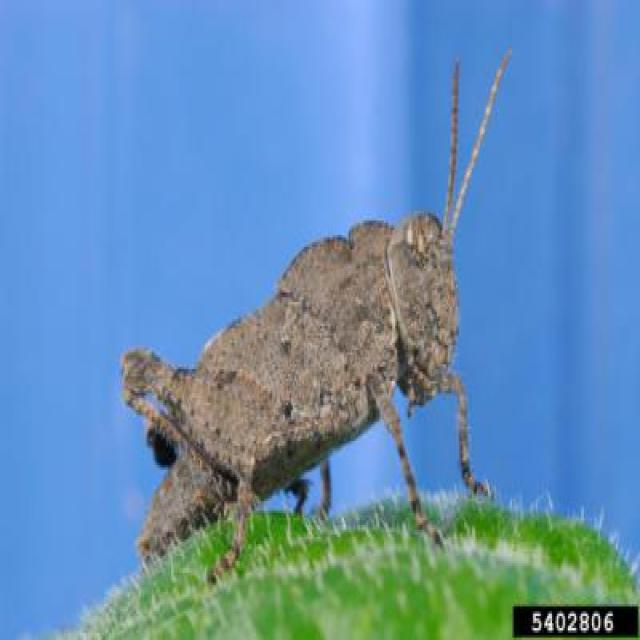antennae: (450, 57, 510, 225), (440, 59, 461, 236)
body: (139, 214, 457, 555)
insect: (118, 49, 515, 588)
legs: (122, 350, 313, 487), (372, 380, 444, 544), (439, 375, 496, 498), (218, 455, 259, 568), (315, 459, 337, 524)
mouthpart: (406, 344, 455, 408)
